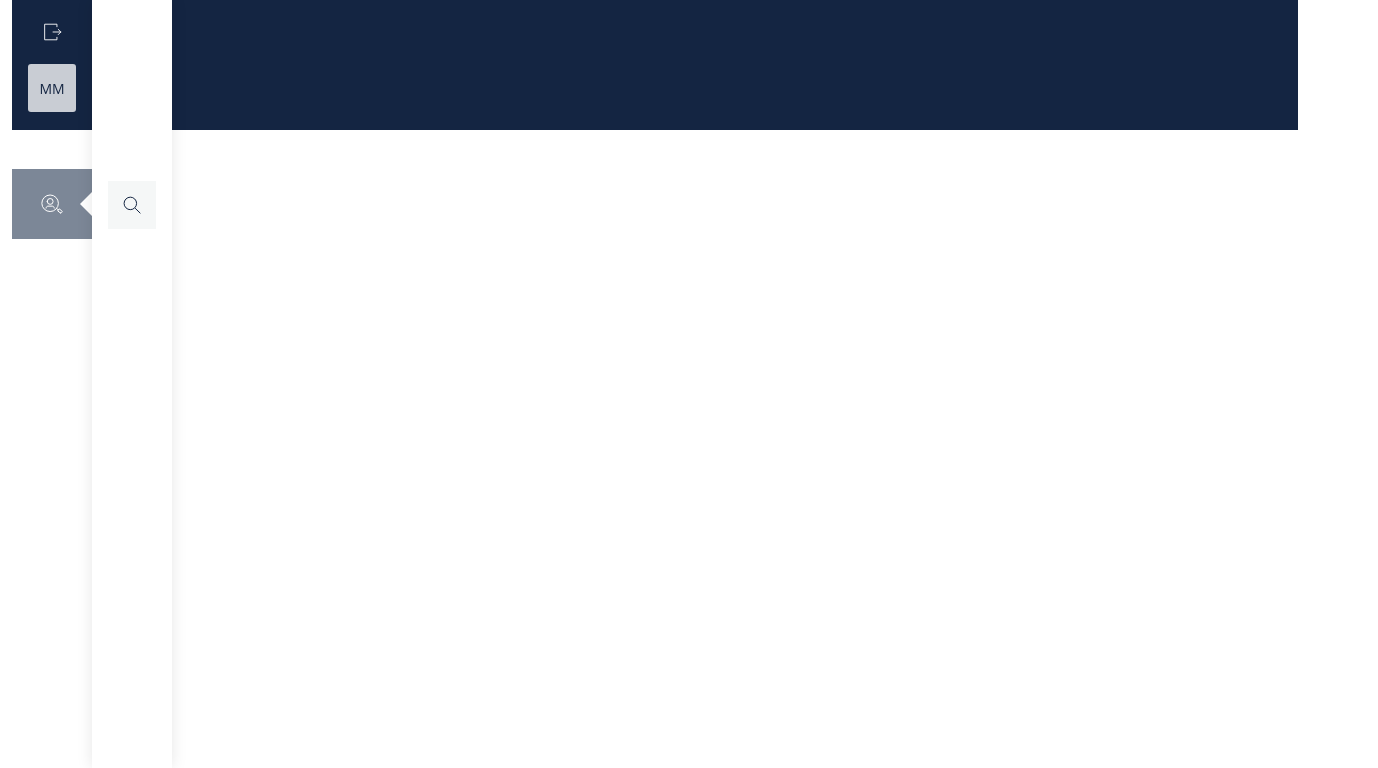
NavigationDrawer › should show x button when nav item is extended
The width and height of the screenshot is (1378, 768).
Step 1. Click the button with test id "NavRightColumnNavItem-1" → click(132, 205), box [120,193,144,217]
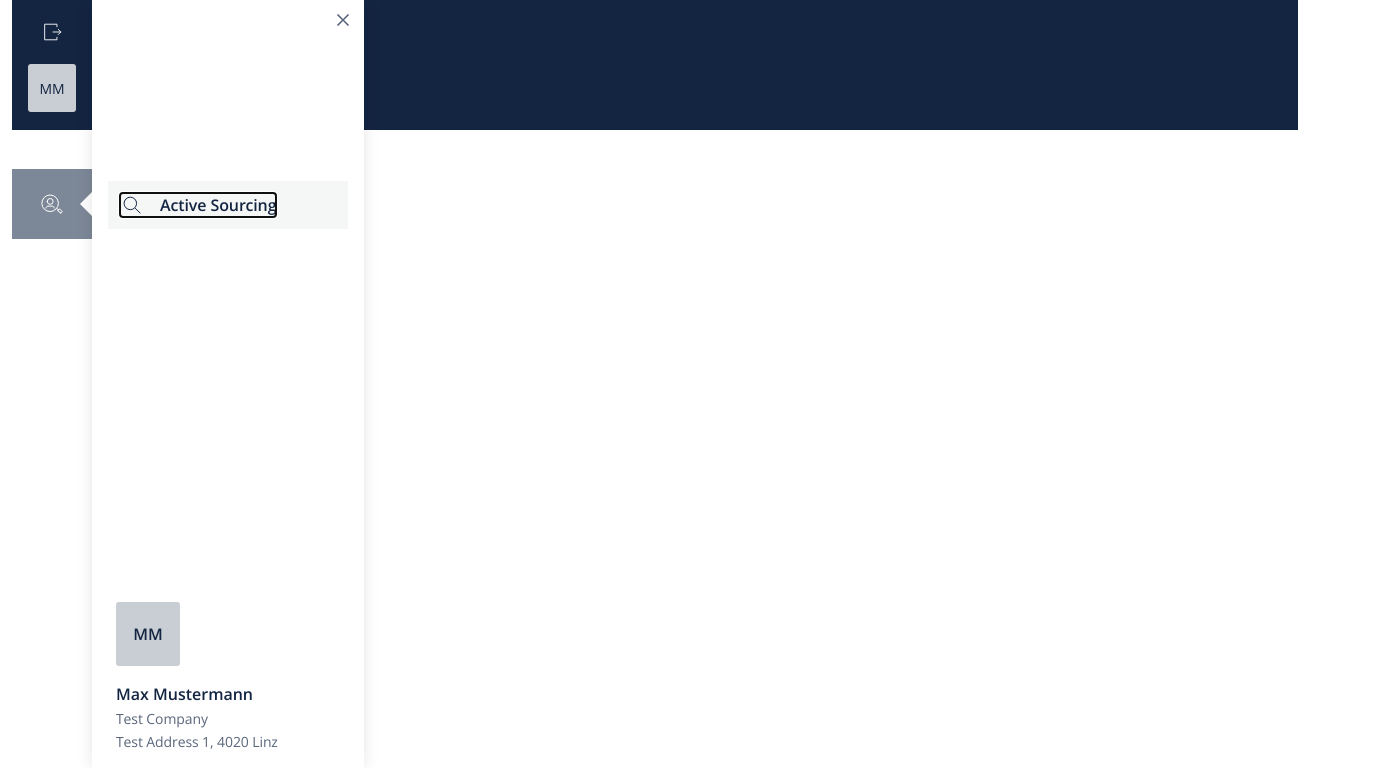
Now the button with test id "NavXButton" is shown, box [332,8,356,32]
